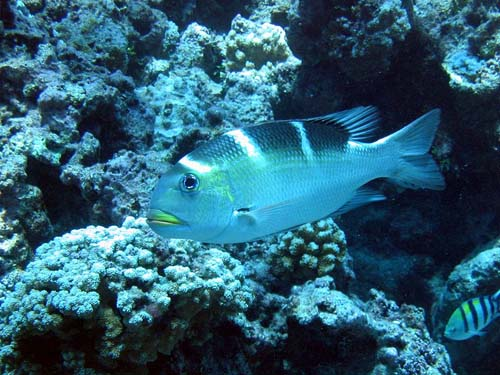fish: (147, 104, 447, 243)
